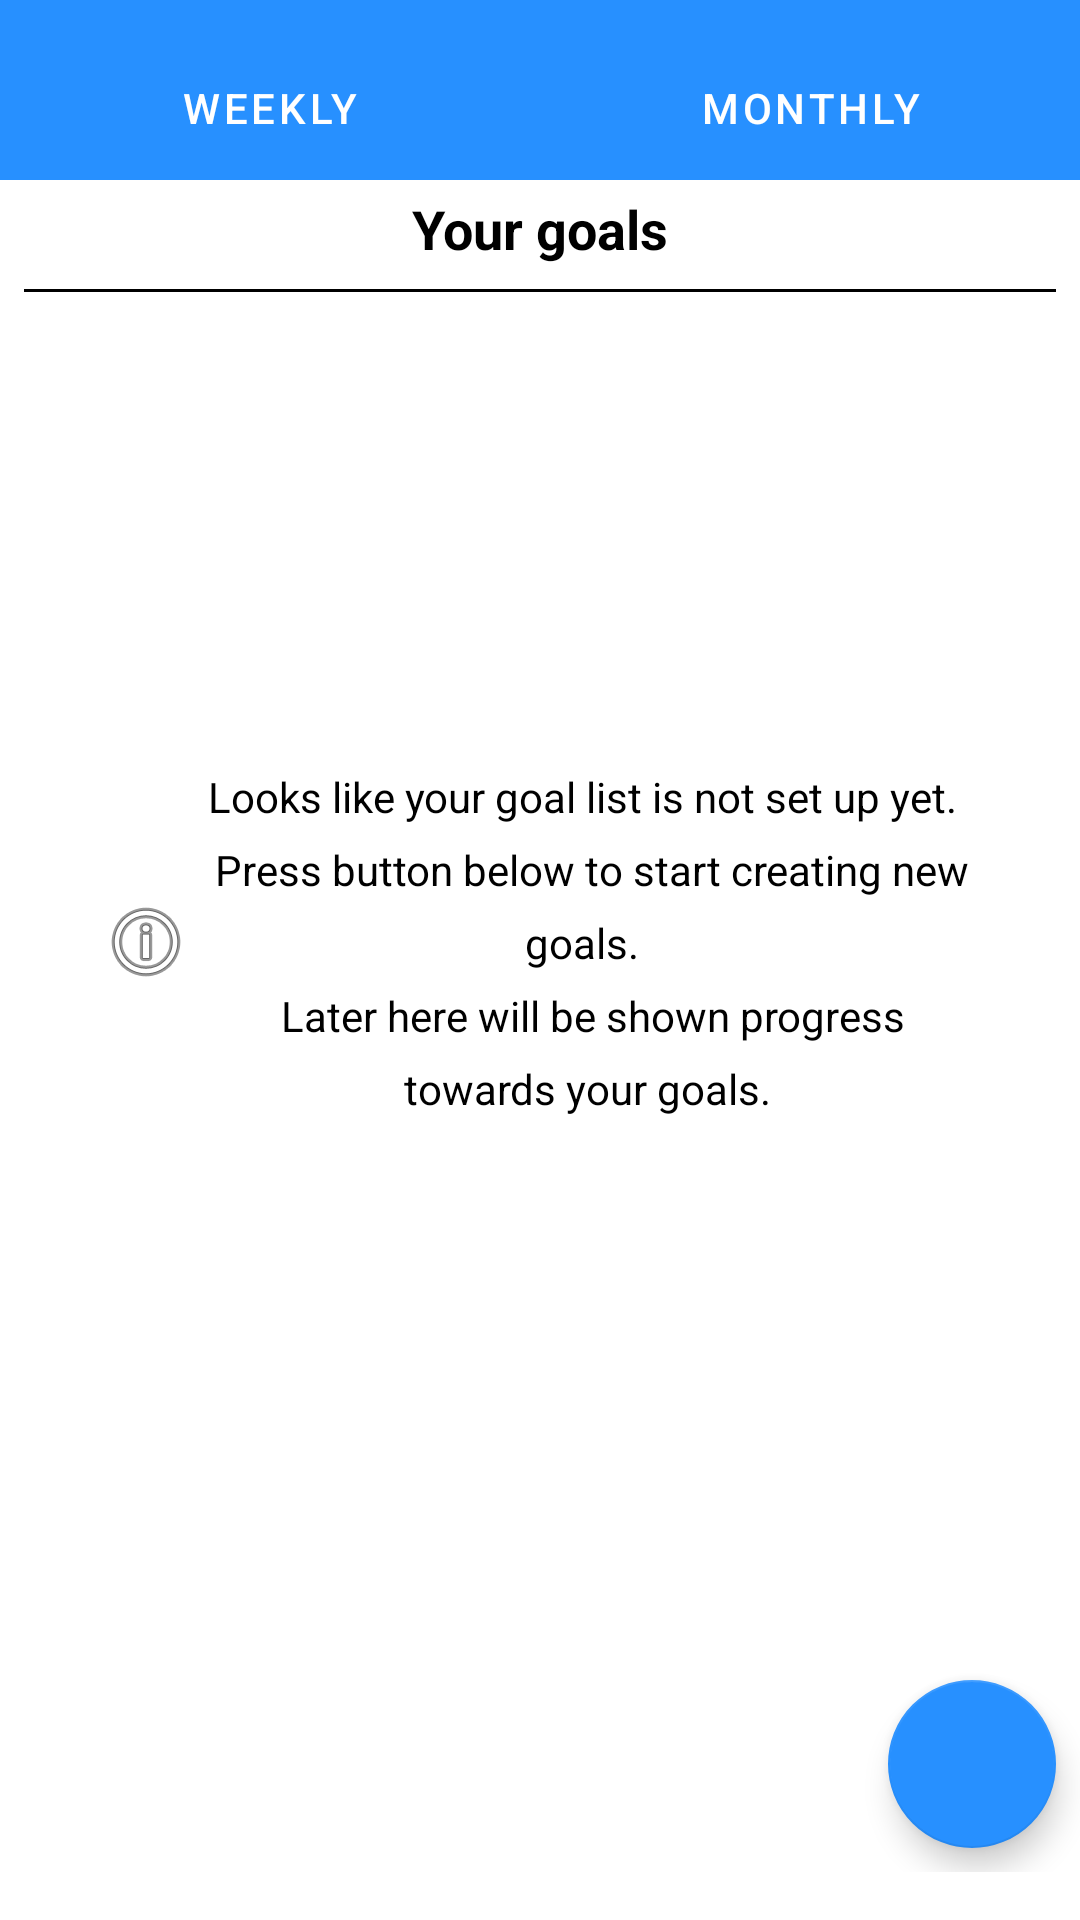

Point at icon controls on the screen. Image size 1080w x 1920h, points as point (x, y).
info details: point (146, 942)
